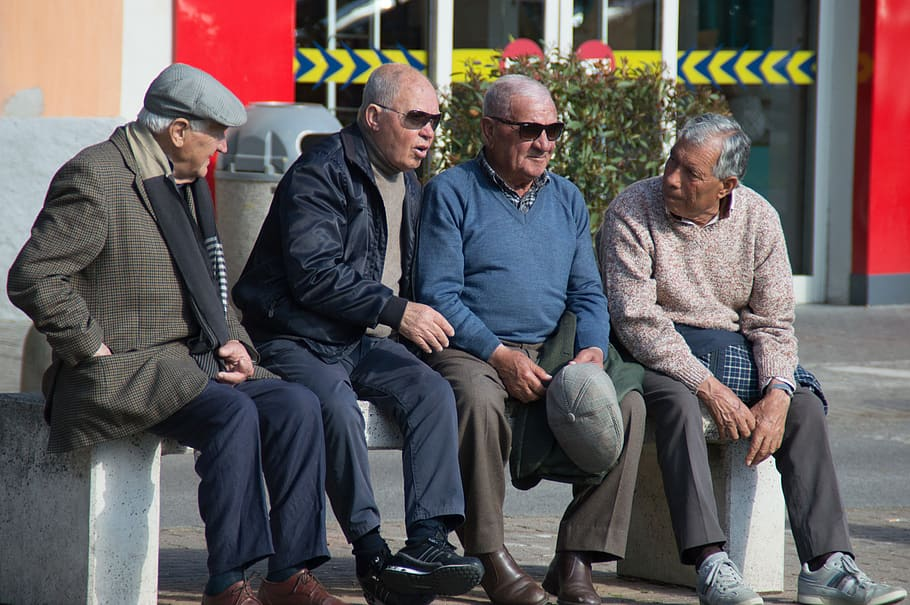Person: (7, 59, 357, 602), (594, 102, 910, 592), (236, 49, 495, 588), (410, 73, 658, 605)
